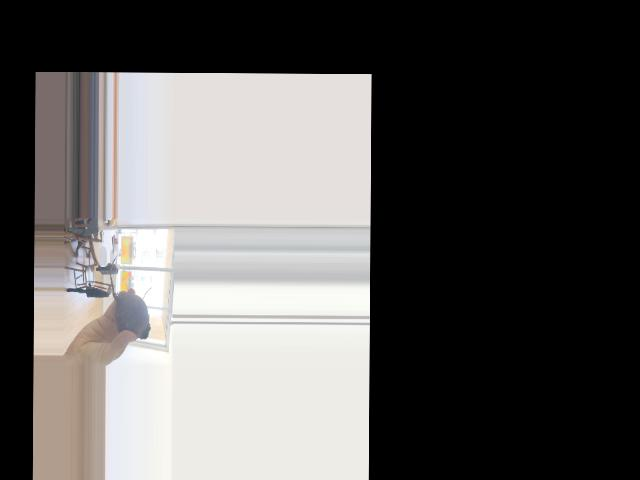beet: (109, 255, 151, 339)
